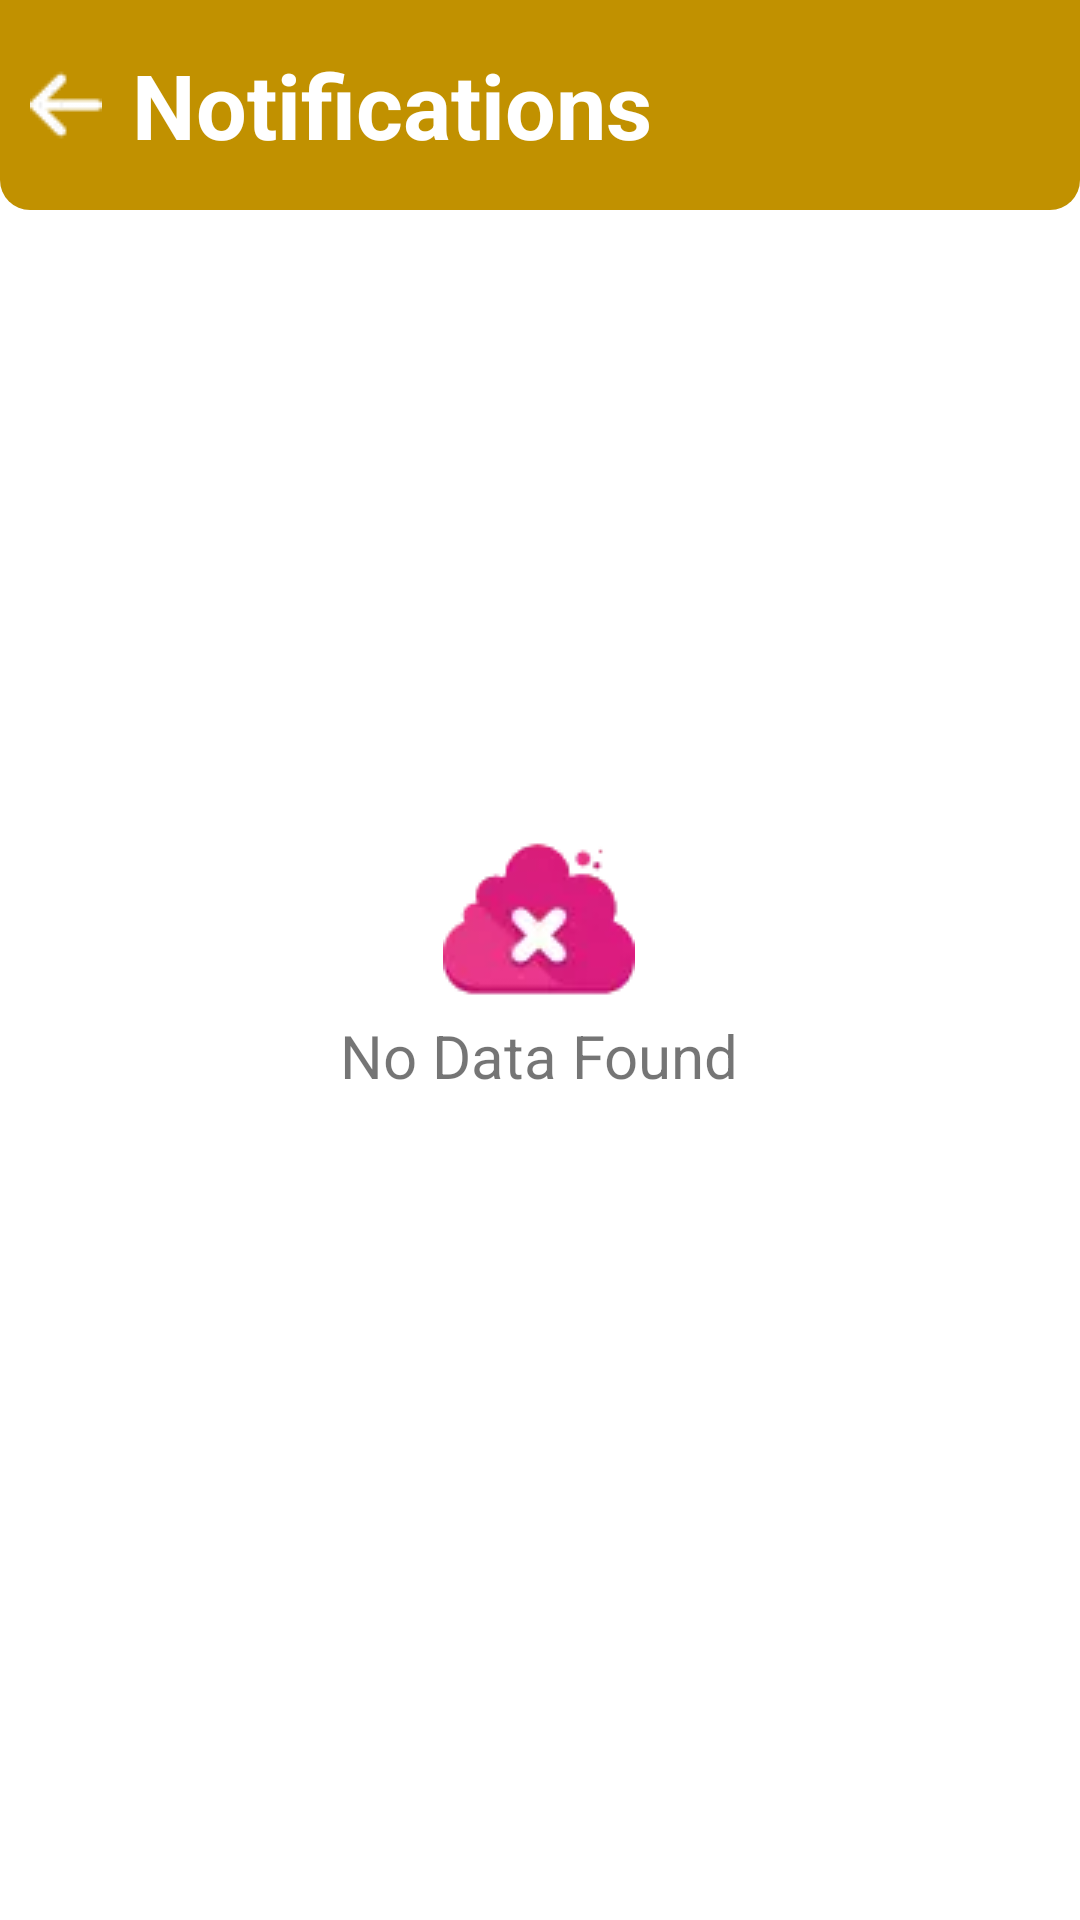

Locate icon controls on the screen. Image size 1080×1920, boxes as (x1, y1, x2, y2).
arrow: (30, 72, 102, 138)
